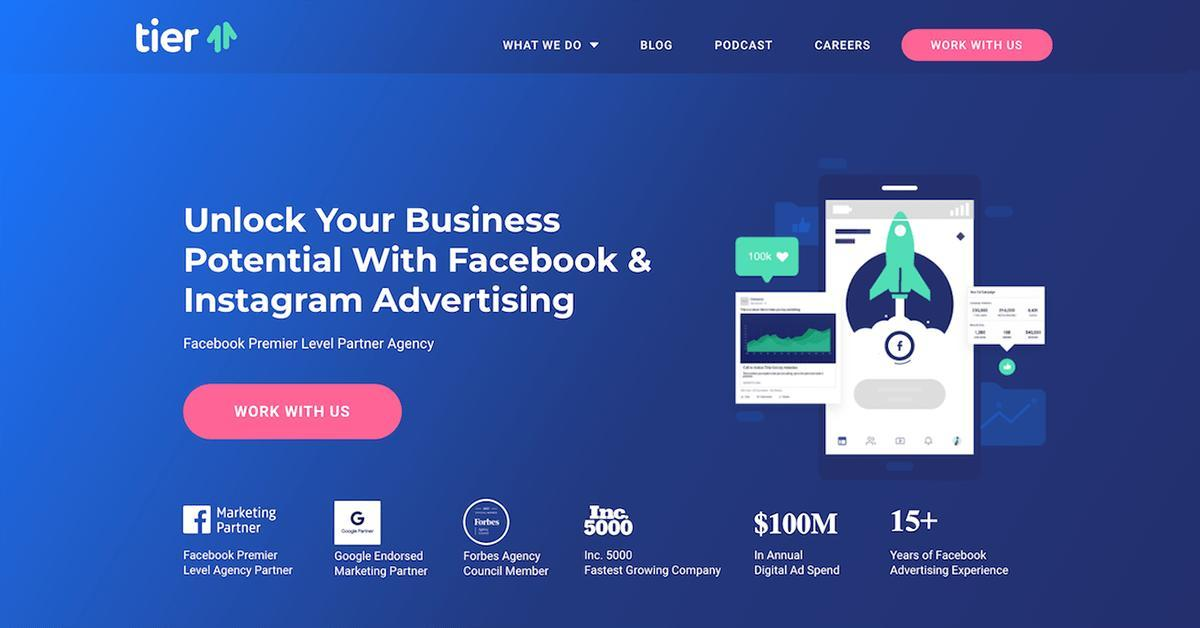button: (186, 385, 401, 440), (901, 29, 1054, 62)
label: (501, 35, 586, 54), (708, 36, 780, 55), (817, 38, 875, 51), (638, 38, 677, 53)
